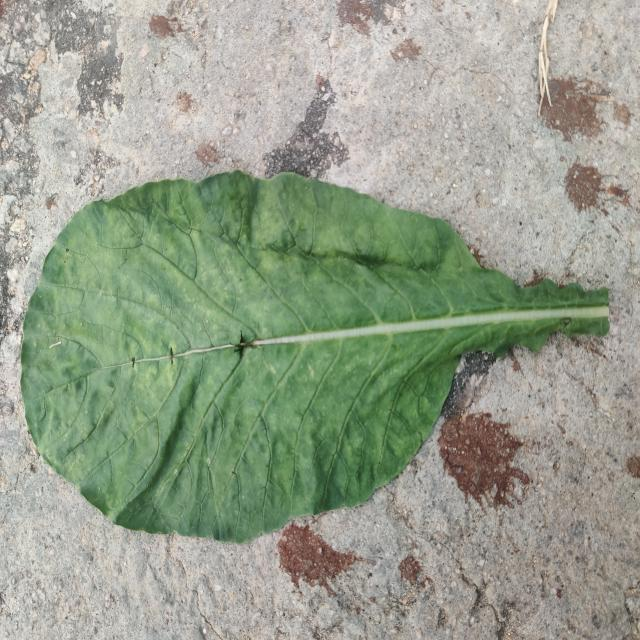raddish: (21, 172, 609, 543)
